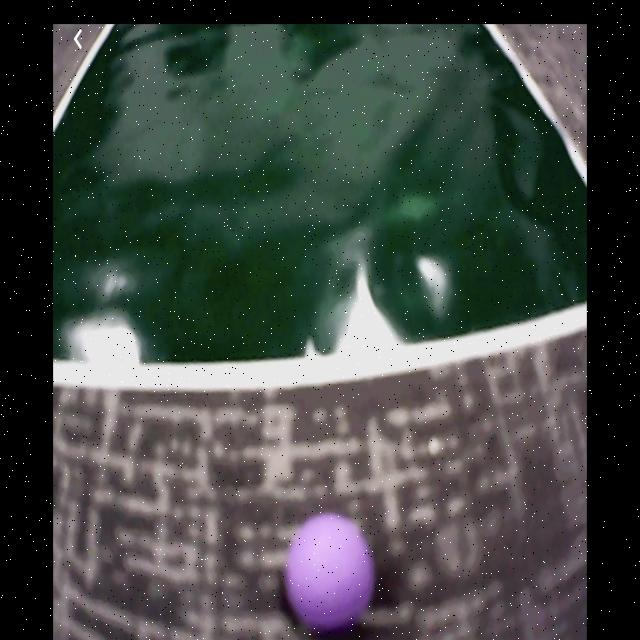ball: (284, 511, 376, 633)
